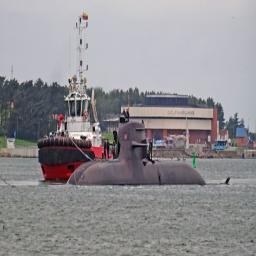submarine: (66, 119, 233, 188)
